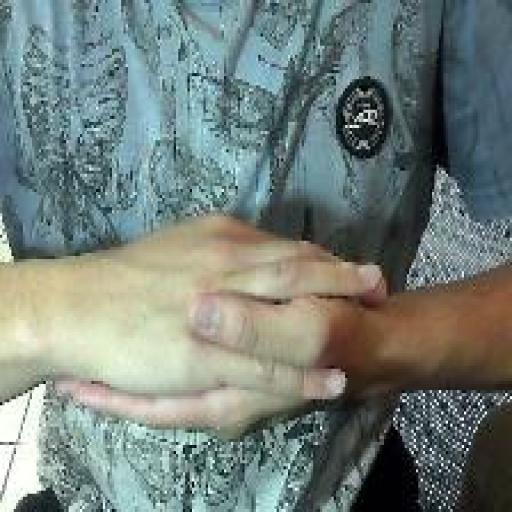Saru -monkey-: (48, 204, 393, 454)
